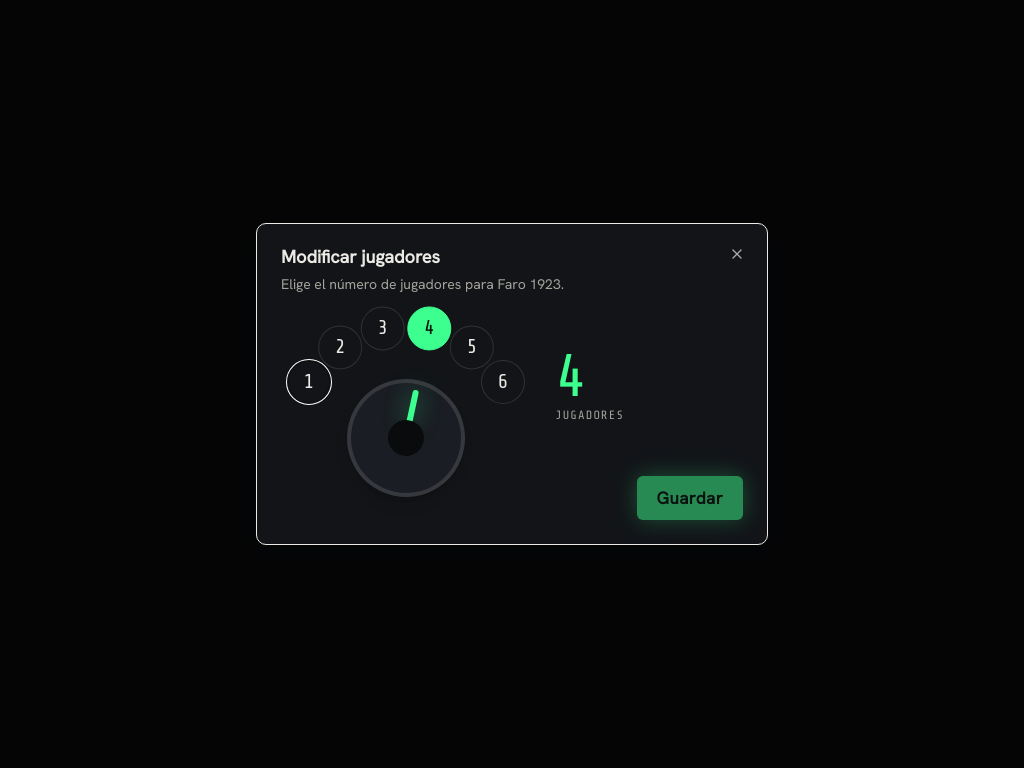
Test case: ModifyPlayersDialog › keeps Save disabled until the number of players changes
The width and height of the screenshot is (1024, 768).
Expected: the button "Guardar" is disabled, [637,476,743,520]
Click the button "5": (472, 347) [450,325,494,369]
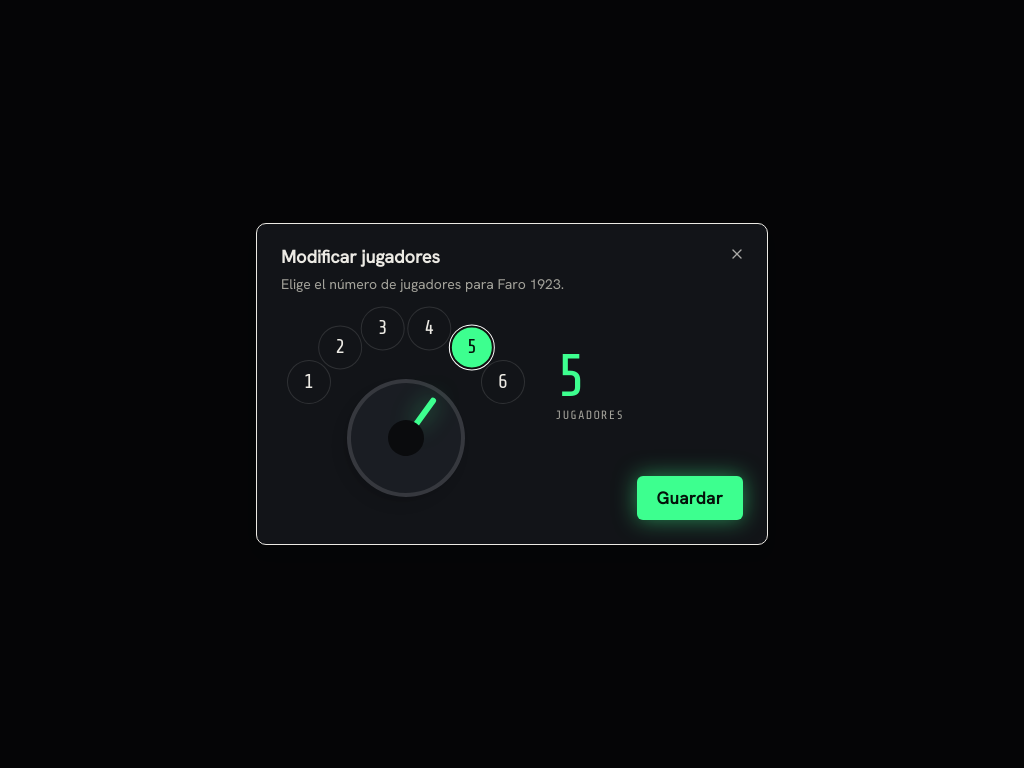
Expected: the button "Guardar" is enabled, [637,476,743,520]
